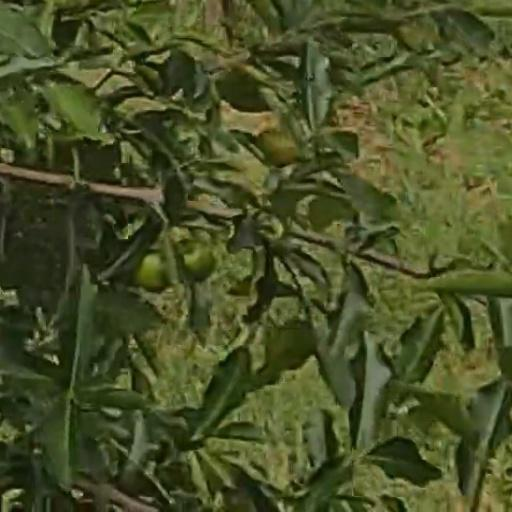acerola: (137, 252, 167, 293), (179, 241, 214, 276)
